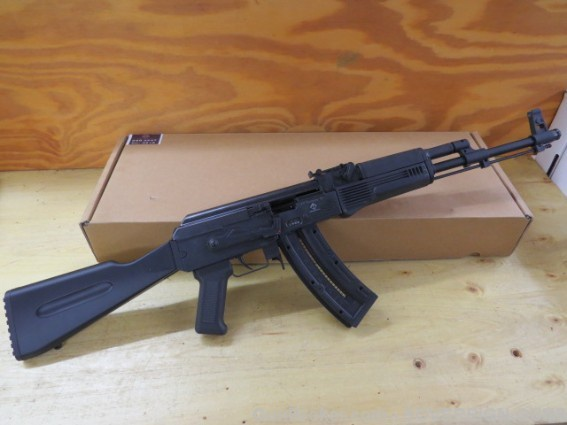ak47: (7, 109, 561, 367)
